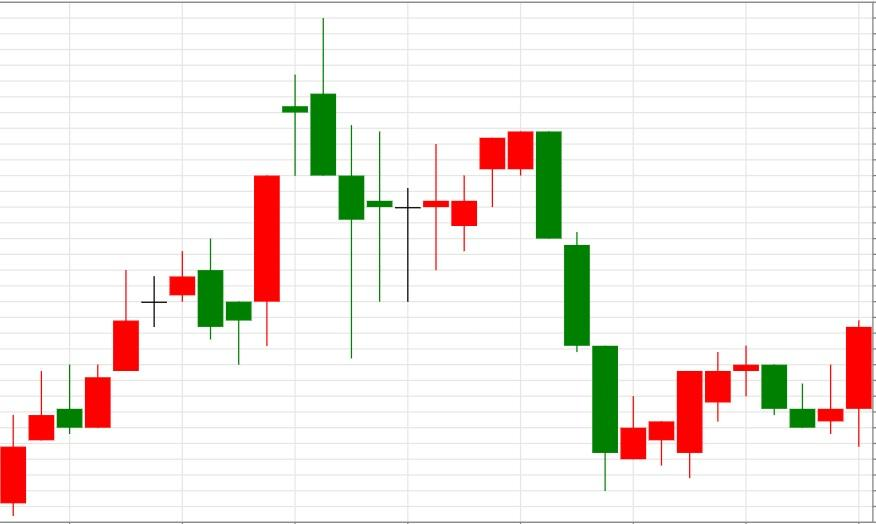three_black_crows_fall: (450, 130, 618, 491)
